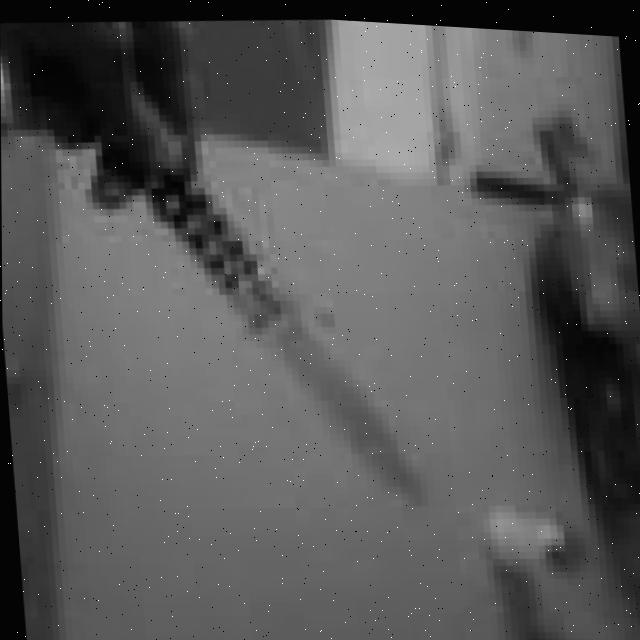knife: (140, 154, 434, 525)
